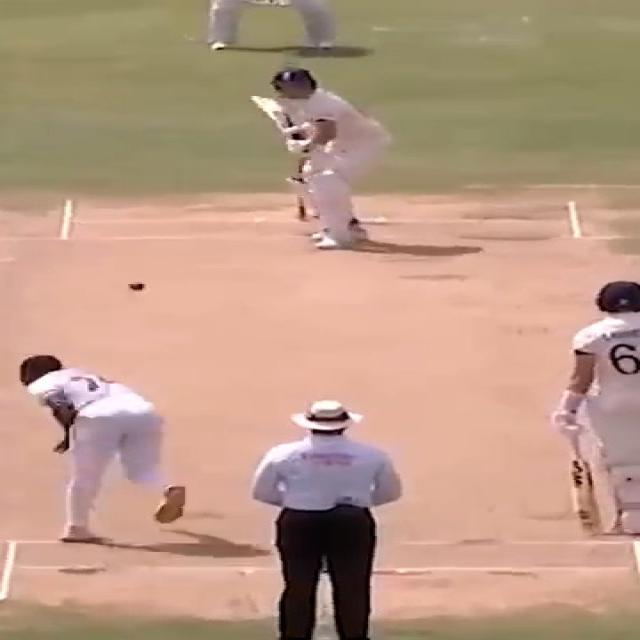Cricket ball: (126, 280, 148, 292)
